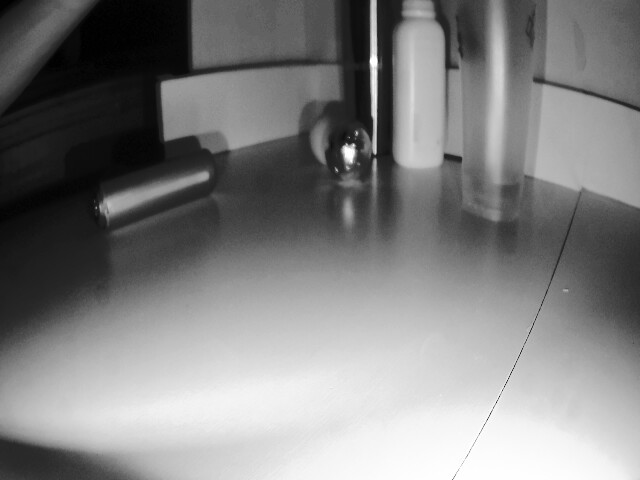silver: (320, 121, 376, 183)
